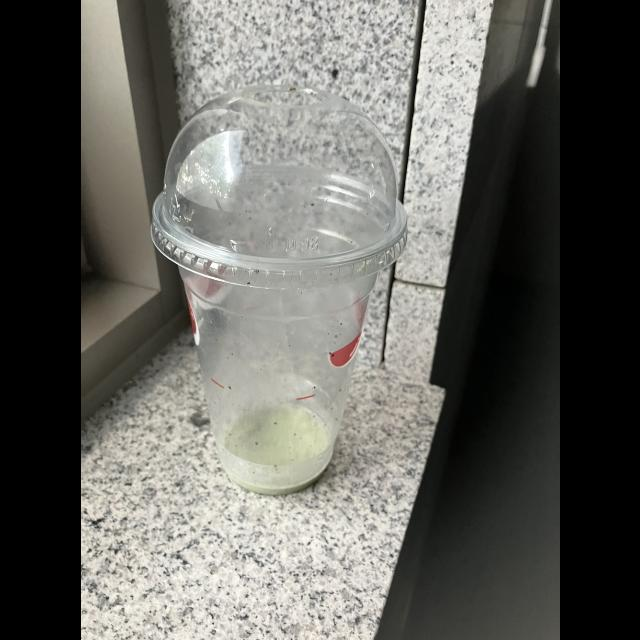plastic_cup: (150, 81, 408, 492)
plastic_cup_lid: (152, 82, 410, 292)
